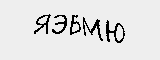Б: (69, 11, 80, 38)
М: (81, 15, 101, 41)
Э: (50, 10, 67, 37)
Ю: (103, 18, 126, 45)
Я: (32, 10, 51, 36)
